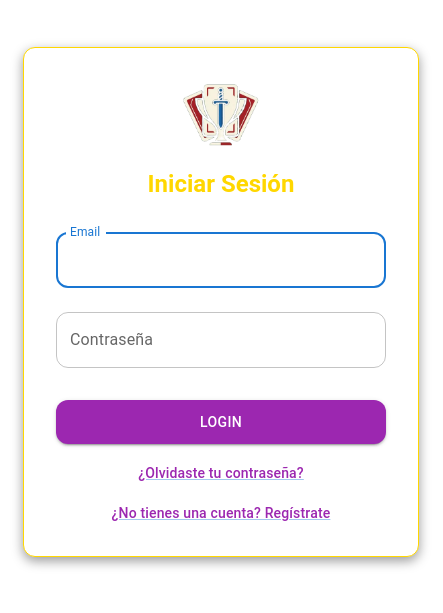
Test case: Login Component › limpia el error cuando el usuario comienza a escribir
Click the button "Login". click: (221, 422)
box: [56,400,386,444]
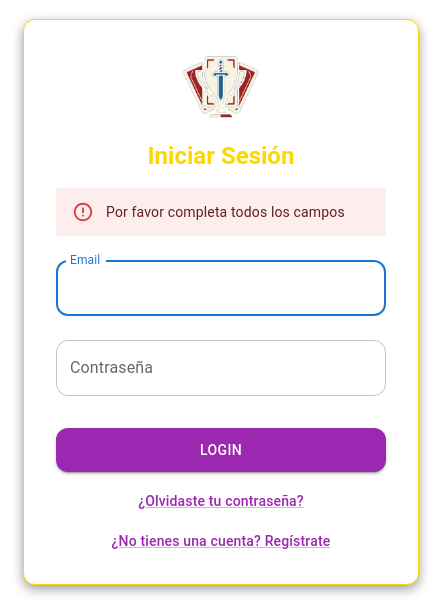
Now the message "Por favor completa todos los campos" is shown, box [56,188,386,236]
Type "new@example.com" into the field labelled "Email". click: (221, 288)
box: [56,260,386,316]
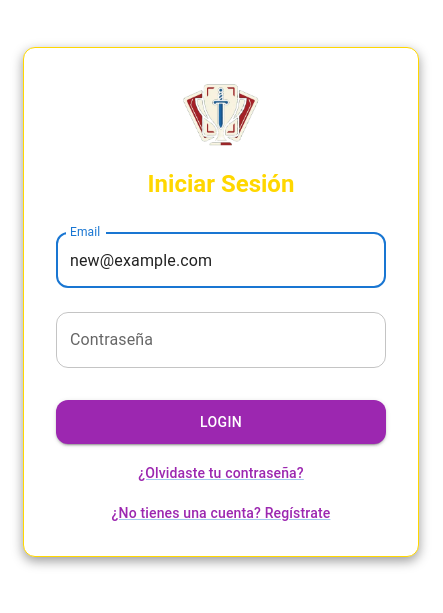
Now the message "Por favor completa todos los campos" is gone
